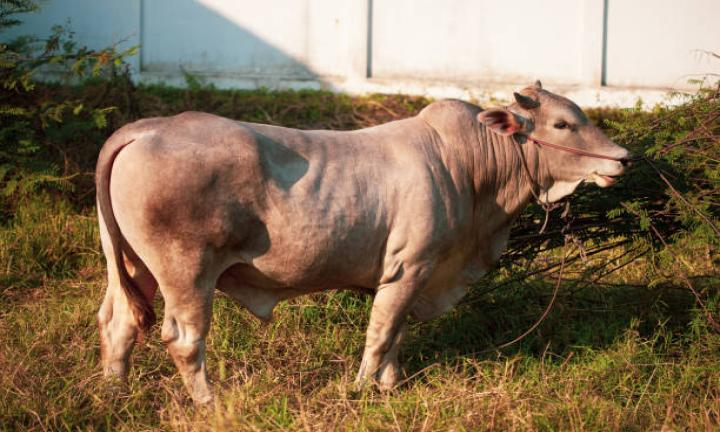Brahman: (96, 83, 627, 399)
